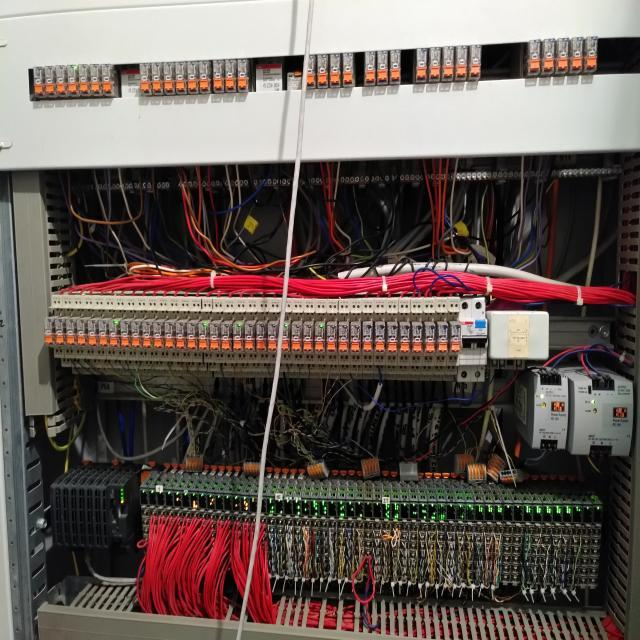Dimmer: (256, 64, 282, 90), (121, 70, 139, 97)
FI_Sicherungskombi: (457, 298, 486, 381)
Leitungsschutzschalter: (286, 68, 303, 90)
Relais: (528, 41, 540, 77), (543, 39, 555, 75), (66, 65, 79, 98), (163, 62, 175, 96), (77, 64, 90, 95), (102, 64, 115, 95), (187, 61, 199, 94), (571, 38, 582, 74), (32, 67, 45, 97), (586, 37, 597, 72), (139, 63, 151, 95), (175, 62, 187, 94), (225, 61, 237, 93), (213, 61, 225, 93), (199, 61, 211, 93), (390, 50, 401, 84), (415, 49, 426, 83), (470, 46, 481, 80), (55, 65, 67, 96), (90, 65, 102, 96), (152, 62, 163, 95), (317, 54, 328, 87), (343, 54, 354, 87), (377, 51, 388, 84), (456, 47, 467, 80), (557, 39, 568, 72), (238, 60, 249, 91), (430, 48, 440, 82), (330, 54, 340, 87), (305, 56, 315, 88), (365, 53, 375, 84), (109, 319, 120, 347), (176, 321, 187, 349), (187, 322, 198, 350), (362, 324, 373, 352), (437, 324, 448, 352), (221, 323, 232, 350), (233, 323, 244, 350), (326, 324, 337, 351), (45, 67, 55, 96), (99, 318, 109, 347), (388, 324, 398, 353), (413, 324, 423, 353), (443, 47, 452, 79), (256, 324, 267, 350), (55, 318, 65, 346), (165, 321, 175, 349), (303, 323, 313, 351), (425, 325, 435, 353), (450, 324, 460, 352), (121, 320, 131, 347), (132, 321, 142, 348), (154, 321, 164, 348), (210, 323, 220, 350), (400, 325, 410, 352), (376, 323, 385, 352), (44, 317, 54, 343), (199, 323, 209, 349), (78, 318, 87, 346), (88, 318, 97, 346), (245, 323, 254, 351), (282, 322, 291, 350), (315, 324, 324, 352), (339, 324, 348, 352), (351, 324, 360, 352), (268, 323, 277, 350), (292, 323, 301, 350), (67, 319, 76, 345), (143, 321, 152, 346)
